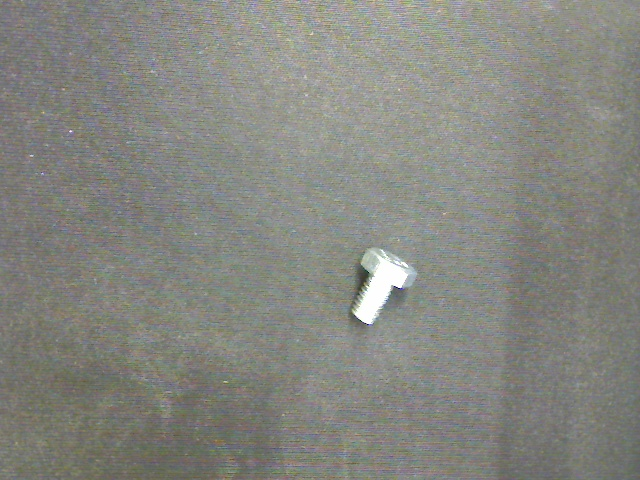screw9: (349, 245, 417, 325)
